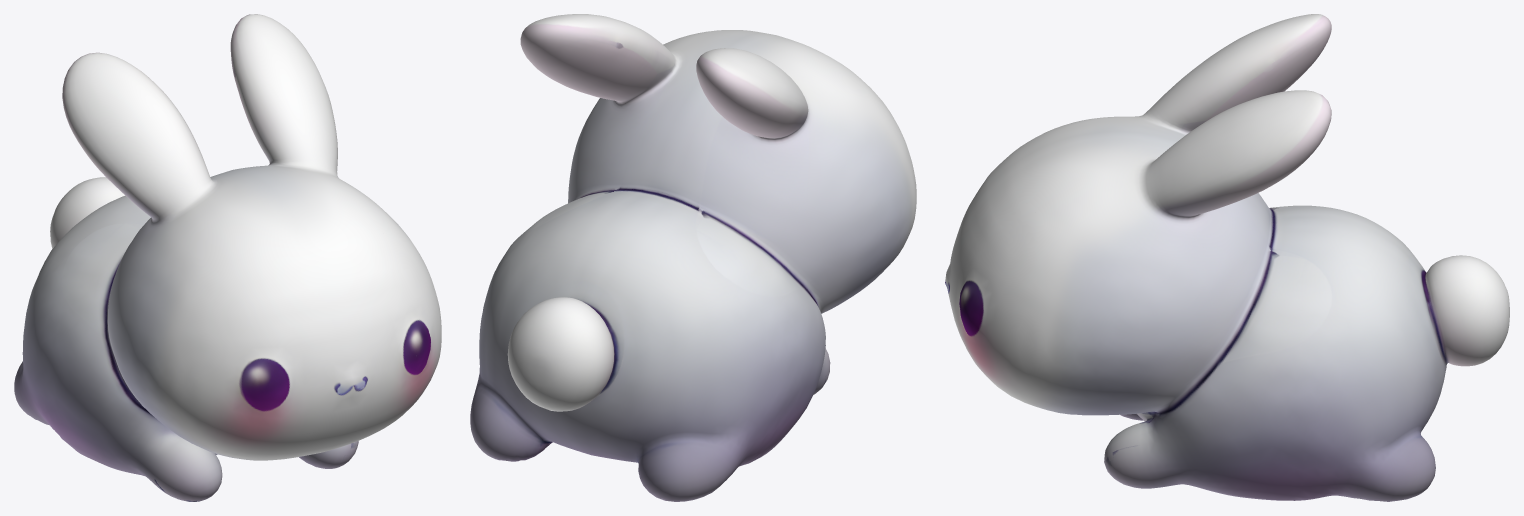
Rendered from cute_little_bunny_pet.glb.
3 renders of one model, left to right at view 1: azimuth 30°, elevation 25°; view 2: azimuth 150°, elevation 25°; view 3: azimuth 270°, elevation 25°, orthographic. The views are drawn at different scales.
Visible parts, largest first — view 1: Object_2; view 2: Object_2; view 3: Object_2.
Boxes of the visible parts, bbox=[...] form: Object_2: bbox=[14, 14, 441, 501]; Object_2: bbox=[470, 14, 916, 501]; Object_2: bbox=[945, 14, 1509, 501].
Size of the model in its own units: 1.14 by 1.46 by 1.9.
Materials: 1 (1 with a texture image).
